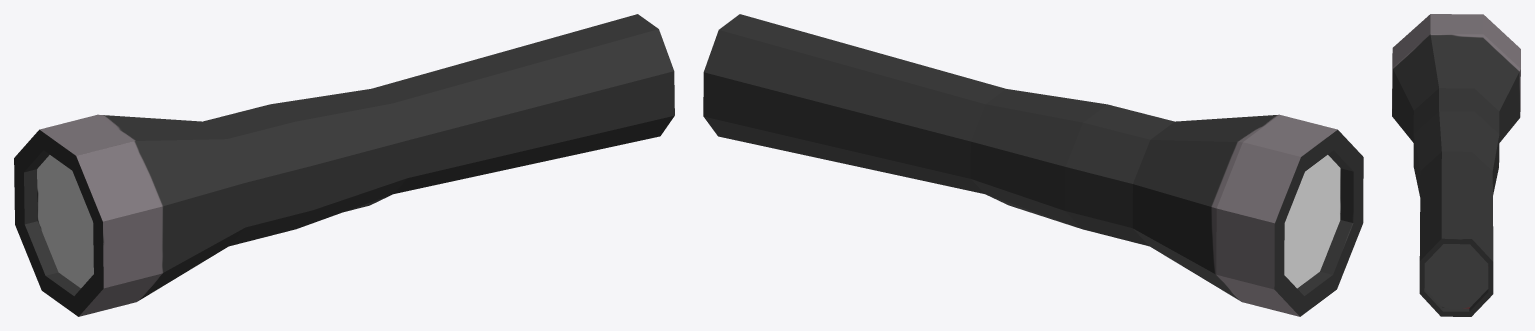
The model's file is low_poly_flashlight.glb.
The picture shows the model from 3 angles, left to right: view 1: azimuth 30°, elevation 25°; view 2: azimuth 150°, elevation 25°; view 3: azimuth 270°, elevation 25°; orthographic projection. The views are drawn at different scales.
Parts seen in each view (by area): view 1: Cylinder; view 2: Cylinder; view 3: Cylinder.
Part boxes in pixels (box(x1,y1,x2,y2)): Cylinder: box(14, 14, 674, 316); Cylinder: box(703, 14, 1363, 316); Cylinder: box(1392, 14, 1520, 316).
Size of the model in its own units: 10.66 by 2.79 by 2.78.
Materials: 1 (1 with a texture image).
